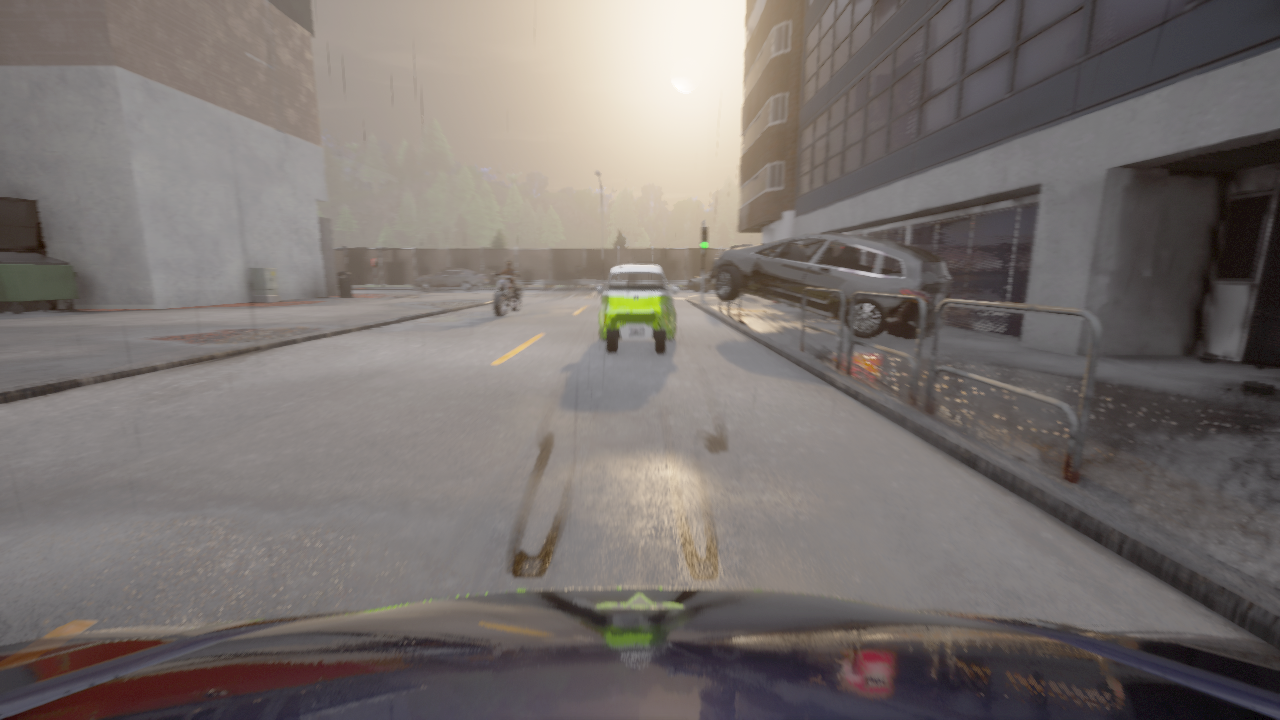cyclist: (0, 588, 1279, 719), (709, 233, 952, 339), (596, 264, 678, 353), (414, 269, 487, 290), (492, 271, 523, 316), (688, 270, 715, 291)
pedestrian: (573, 264, 585, 287), (573, 265, 582, 287), (741, 292, 743, 296)
